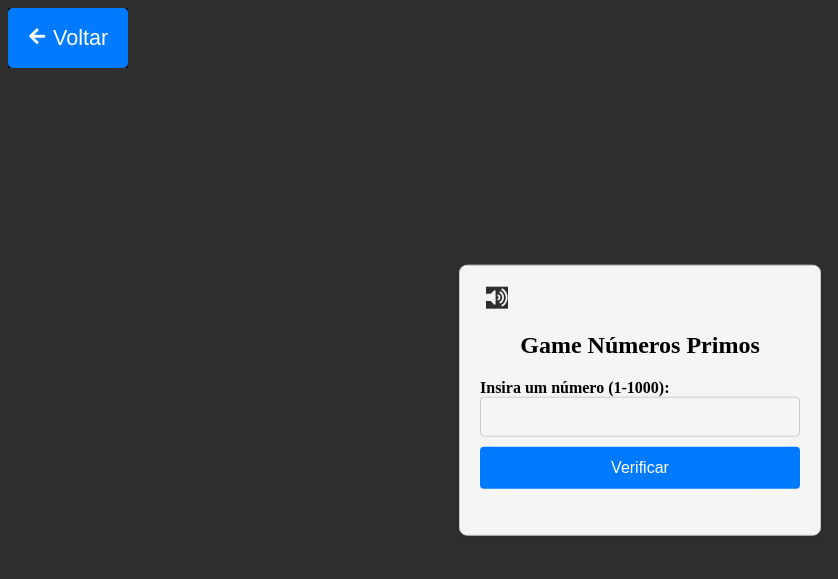
it: PrimeNumber Page › should show the message: O número é primo, when entering an prime number in the input
Type "13" into the number field labelled "Insira um número (1-1000):" at (640, 416), box [480,396,800,436]
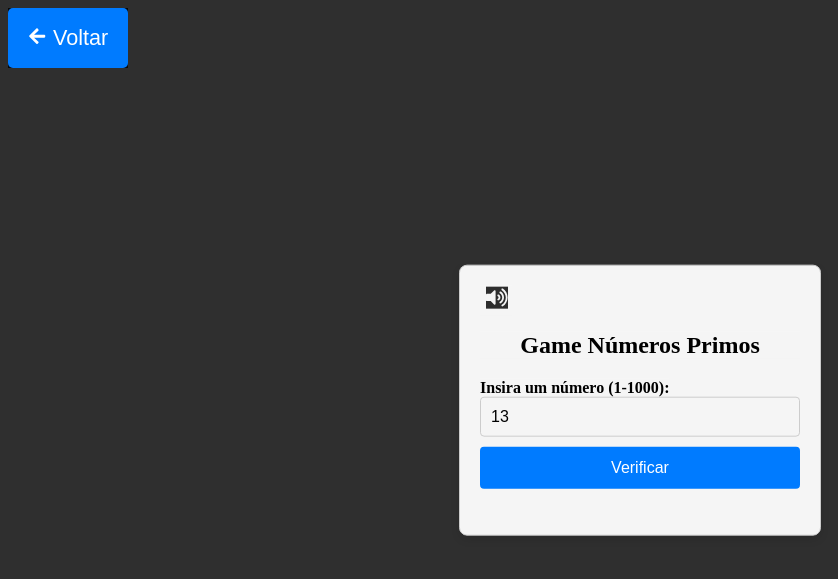
Click the button with test id "send-form" at (640, 467), box [480,446,800,488]
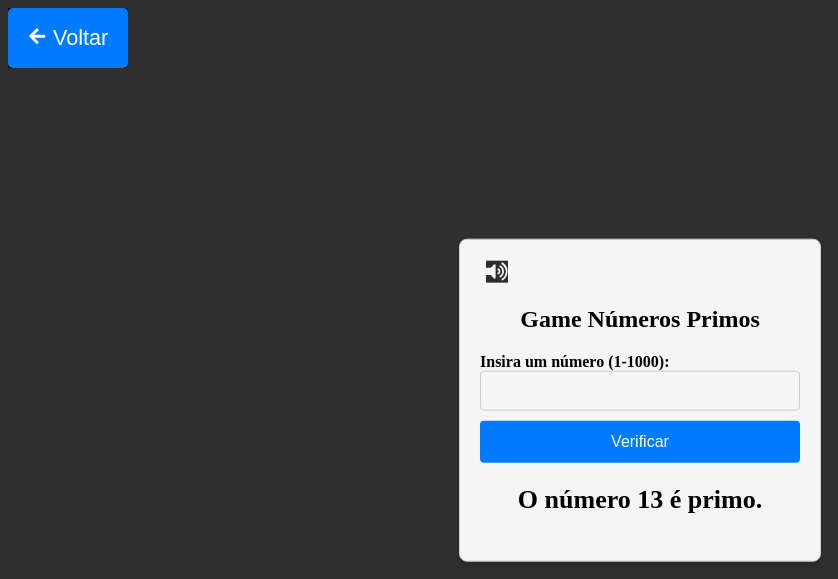
Now the text with test id "result-text" reads "O número 13 é primo.", box [518,484,762,513]
